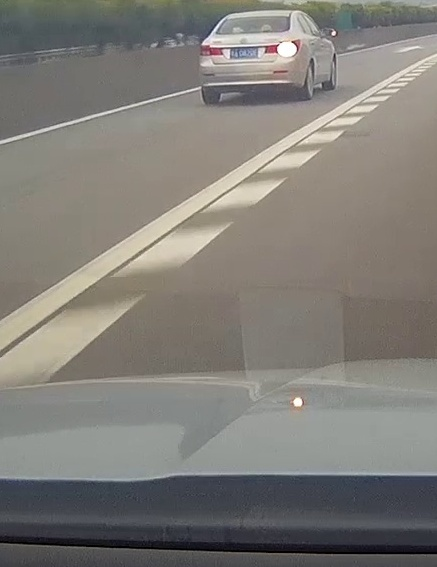L_light: (200, 44, 224, 56)
R_light: (264, 39, 300, 54)
T_light: (246, 17, 262, 21)
day-right: (199, 10, 302, 105)
